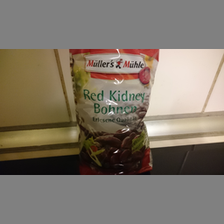beans: (68, 49, 160, 175)
